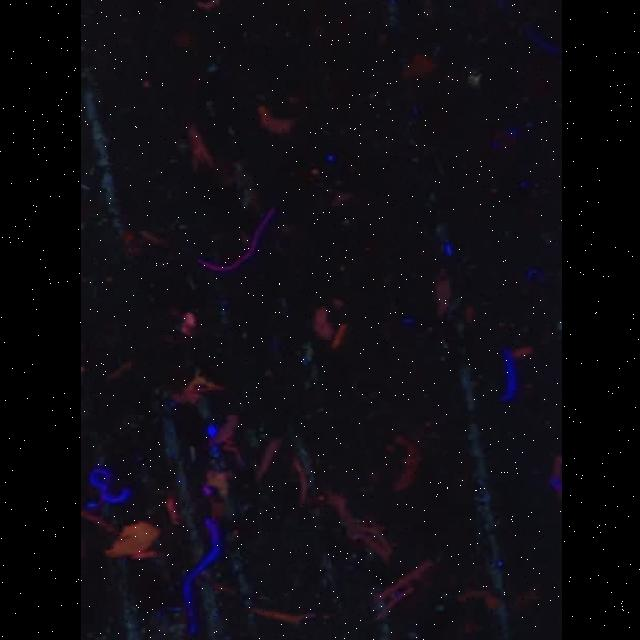Fragment: (103, 522, 157, 559)
